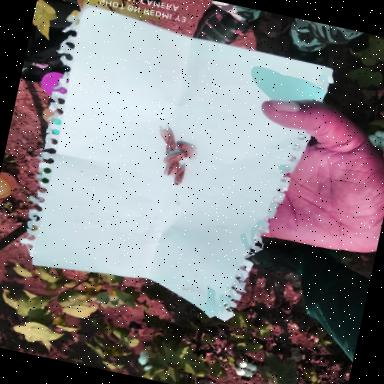abw: (153, 124, 180, 154), (160, 148, 190, 170), (172, 140, 199, 162), (161, 156, 179, 179), (174, 164, 186, 188)
